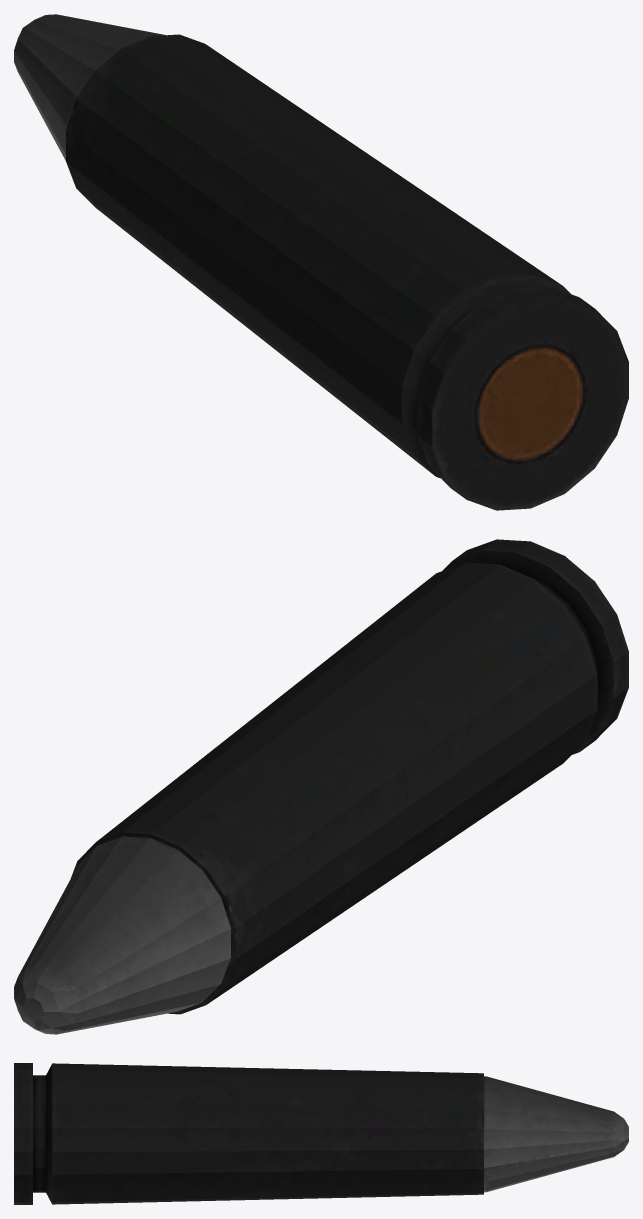
The picture shows the model from 3 angles, top to bottom: view 1: azimuth 30°, elevation 25°; view 2: azimuth 150°, elevation 25°; view 3: azimuth 270°, elevation 25°; orthographic projection. The views are drawn at different scales.
Visible parts, largest first — view 1: TW_59e655cb86f77411dc52a77b_PZ_Import; view 2: TW_59e655cb86f77411dc52a77b_PZ_Import; view 3: TW_59e655cb86f77411dc52a77b_PZ_Import.
Part boxes in pixels (x1,y1,x2,y2): TW_59e655cb86f77411dc52a77b_PZ_Import: (14,14,628,510); TW_59e655cb86f77411dc52a77b_PZ_Import: (14,539,628,1034); TW_59e655cb86f77411dc52a77b_PZ_Import: (14,1063,628,1204).
Bounding box in the file's own units: 0.00645 × 0.0283 × 0.00655.
Materials: 1 (1 with a texture image).
